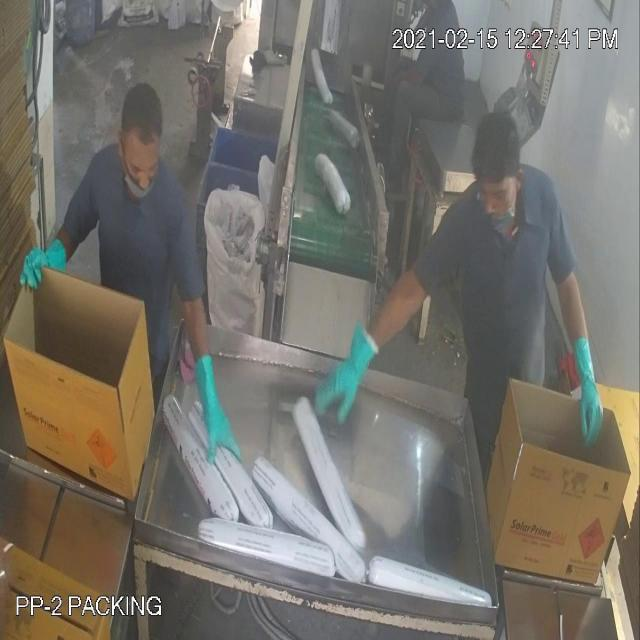Gloves: (45, 79, 584, 382)
